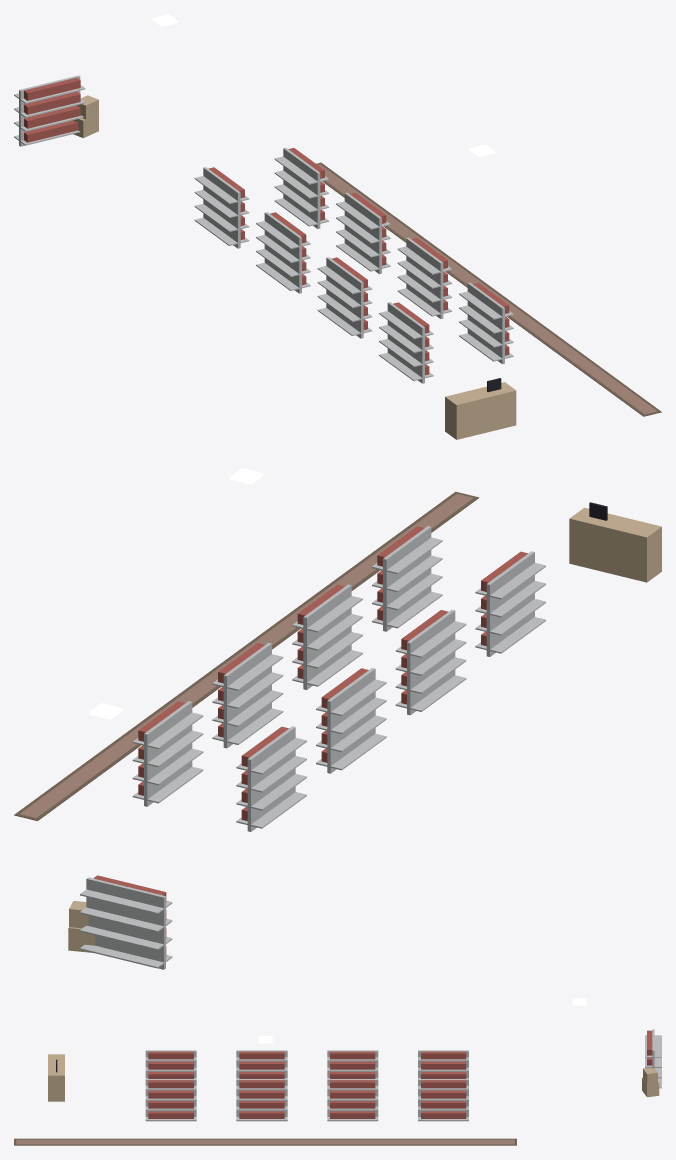
File: fine-s0.glb
3 renders of one model, top to bottom at view 1: azimuth 30°, elevation 25°; view 2: azimuth 150°, elevation 25°; view 3: azimuth 270°, elevation 25°, orthographic. The views are drawn at different scales.
Visible parts, largest first — view 1: soft-s0, shelving.000, shop-counter.000, shelf.005, shelf.007, shelf.001, shelf.003, shelf.002, shelf.000, shelf.006, shelf.004, cardboard-box.000; view 2: soft-s0, shelving.000, shop-counter.000, shelf.002, shelf.007, shelf.001, shelf.004, shelf.000, shelf.006, shelf.005, shelf.003, cardboard-box.000; view 3: soft-s0, shelf.006, shelf.005, shelf.007, shelf.004, shelf.001, shelf.002, shelf.003, shelf.000, shop-counter.000, shelving.000, cardboard-box.000.
Part boxes in pixels (left/top/right/bottom): soft-s0: left=316, top=162, right=661, bottom=416; shelving.000: left=14, top=75, right=85, bottom=146; shop-counter.000: left=445, top=378, right=516, bottom=439; shelf.005: left=336, top=192, right=390, bottom=274; shelf.007: left=459, top=282, right=513, bottom=364; shelf.001: left=256, top=212, right=310, bottom=293; shelf.003: left=379, top=302, right=433, bottom=383; shelf.002: left=317, top=257, right=372, bottom=338; shelf.000: left=194, top=167, right=249, bottom=248; shelf.006: left=397, top=237, right=451, bottom=318; shelf.004: left=274, top=147, right=328, bottom=228; cardboard-box.000: left=73, top=95, right=98, bottom=138; soft-s0: left=14, top=491, right=479, bottom=820; shelving.000: left=80, top=875, right=172, bottom=969; shop-counter.000: left=569, top=502, right=661, bottom=582; shelf.002: left=395, top=609, right=466, bottom=715; shelf.007: left=372, top=526, right=442, bottom=631; shelf.001: left=316, top=668, right=386, bottom=773; shelf.004: left=132, top=701, right=203, bottom=806; shelf.000: left=236, top=726, right=306, bottom=831; shelf.006: left=292, top=584, right=362, bottom=689; shelf.005: left=212, top=642, right=283, bottom=748; shelf.003: left=475, top=551, right=545, bottom=656; cardboard-box.000: left=68, top=901, right=95, bottom=952; soft-s0: left=14, top=1138, right=516, bottom=1145; shelf.006: left=236, top=1079, right=287, bottom=1121; shelf.005: left=327, top=1079, right=378, bottom=1121; shelf.007: left=145, top=1079, right=196, bottom=1121; shelf.004: left=418, top=1079, right=468, bottom=1121; shelf.001: left=327, top=1050, right=378, bottom=1078; shelf.002: left=236, top=1050, right=287, bottom=1078; shelf.003: left=145, top=1050, right=196, bottom=1078; shelf.000: left=418, top=1050, right=468, bottom=1078; shop-counter.000: left=48, top=1054, right=64, bottom=1101; shelving.000: left=645, top=1029, right=661, bottom=1088; cardboard-box.000: left=642, top=1068, right=659, bottom=1097.
Size of the model in its own units: 6.28 by 4.02 by 22.84.
